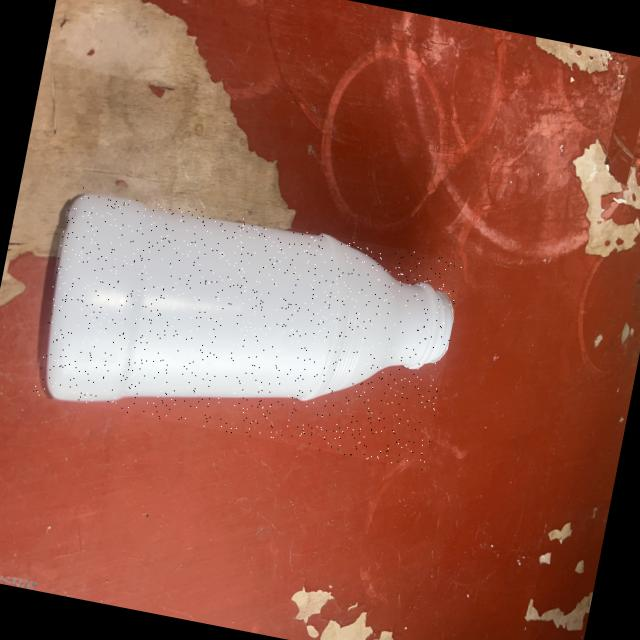HDPE_Bottle: (46, 194, 452, 401)
